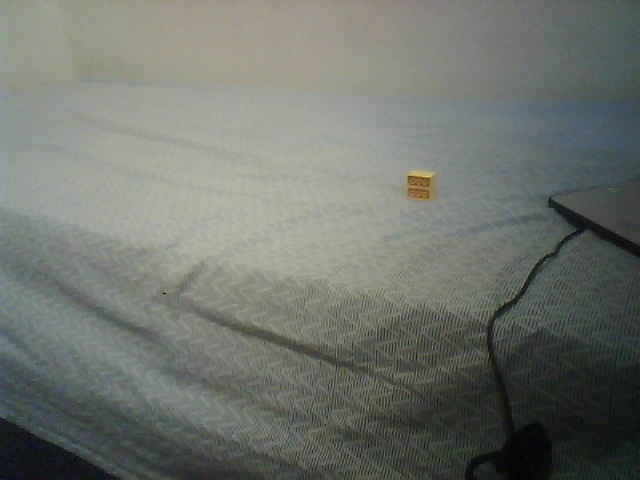lego: (405, 170, 436, 201)
